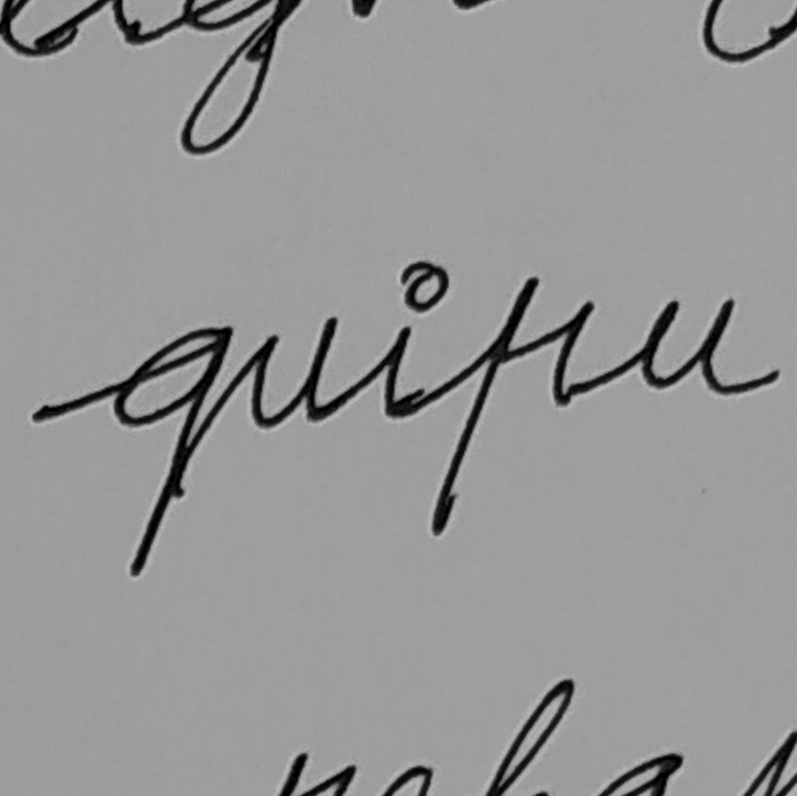i: (376, 256, 453, 425)
p: (426, 274, 599, 538)
q: (108, 322, 235, 582)
u: (248, 312, 340, 434), (630, 294, 738, 394)
